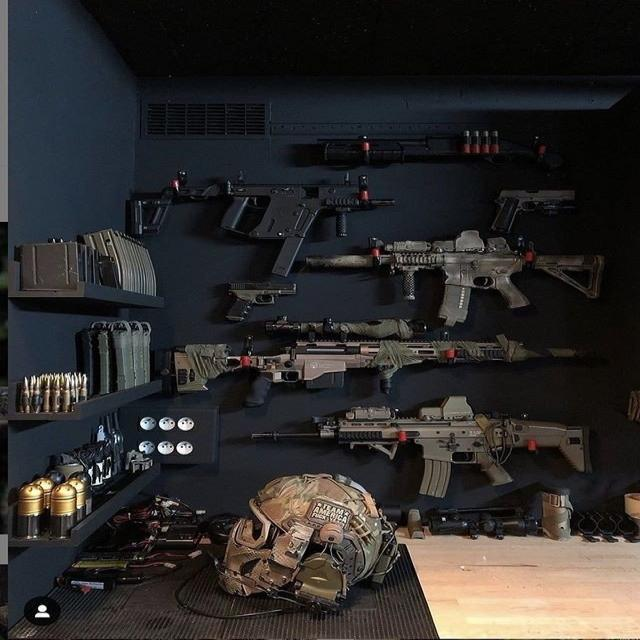HandGun: (490, 190, 575, 233), (223, 282, 297, 322)
Rifle: (160, 316, 596, 408), (251, 396, 592, 499), (305, 230, 604, 327)
SMG: (130, 176, 396, 278)
ShotGun: (318, 132, 564, 168)
